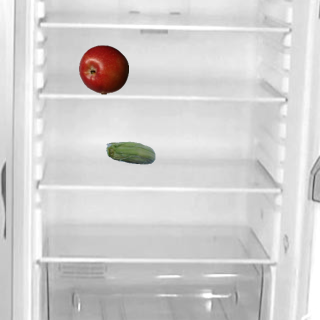Apple Braeburn: (78, 44, 128, 94)
Corn Husk: (105, 129, 155, 179)
